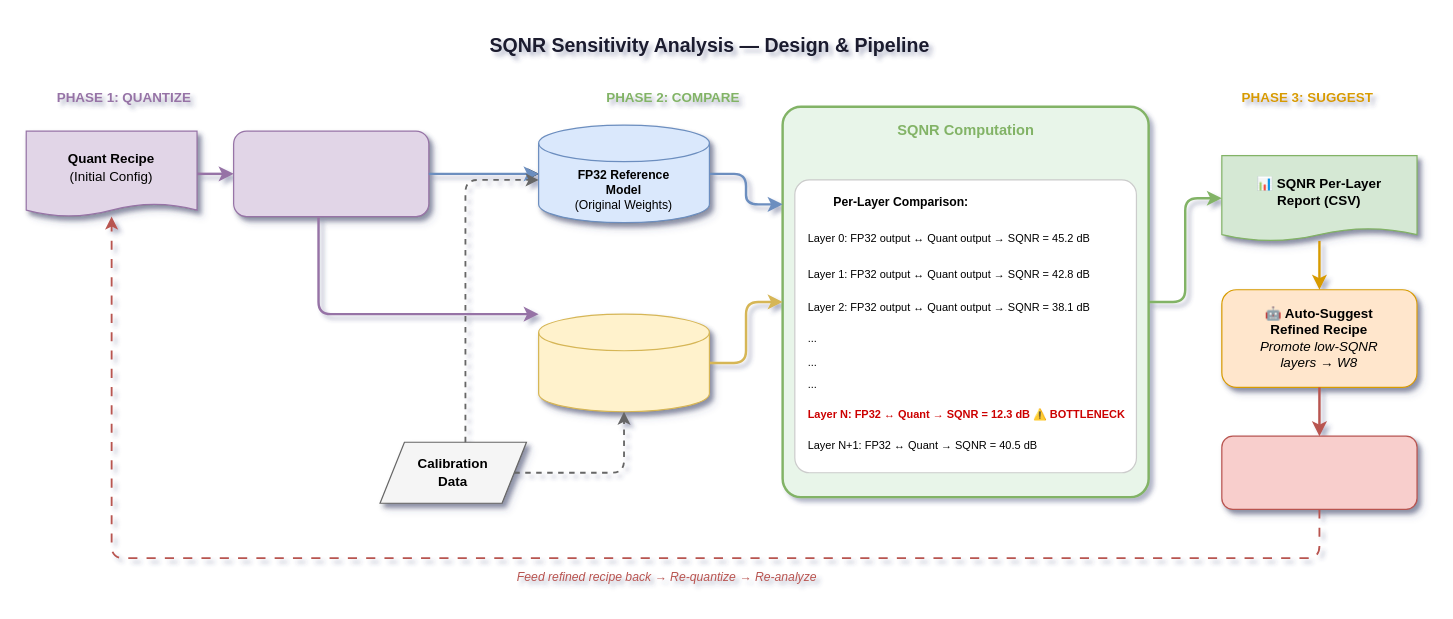
Some shapes in this 1453 by 619 pixel diagram are drawn without their labels. The shapes that lost their labels are listed below. From the top down, each one's centre as x and y in pixels, then its label:
At [332,175]: "Quantization Engine Insert QDQ Nodes".
At [625,364]: "QDQ Model (FakeQuant Nodes Inserted)".
At [1320,474]: "🔄 Iterate Re-Quantize with Refined Recipe".
